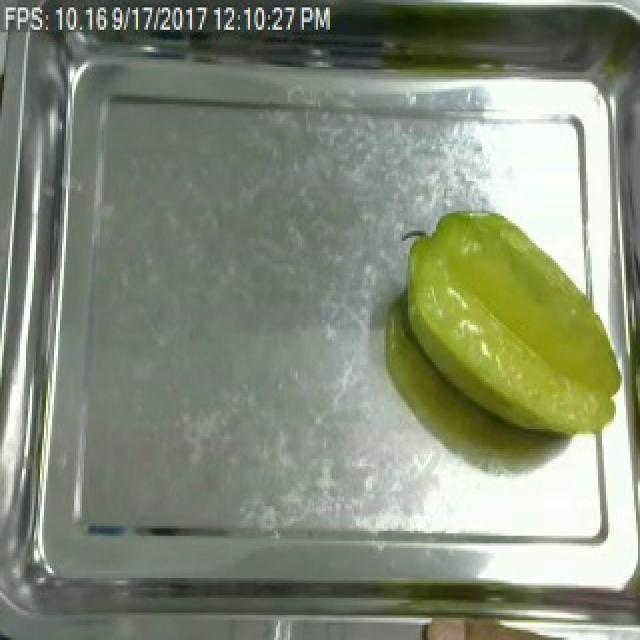fruit: (390, 204, 632, 446)
